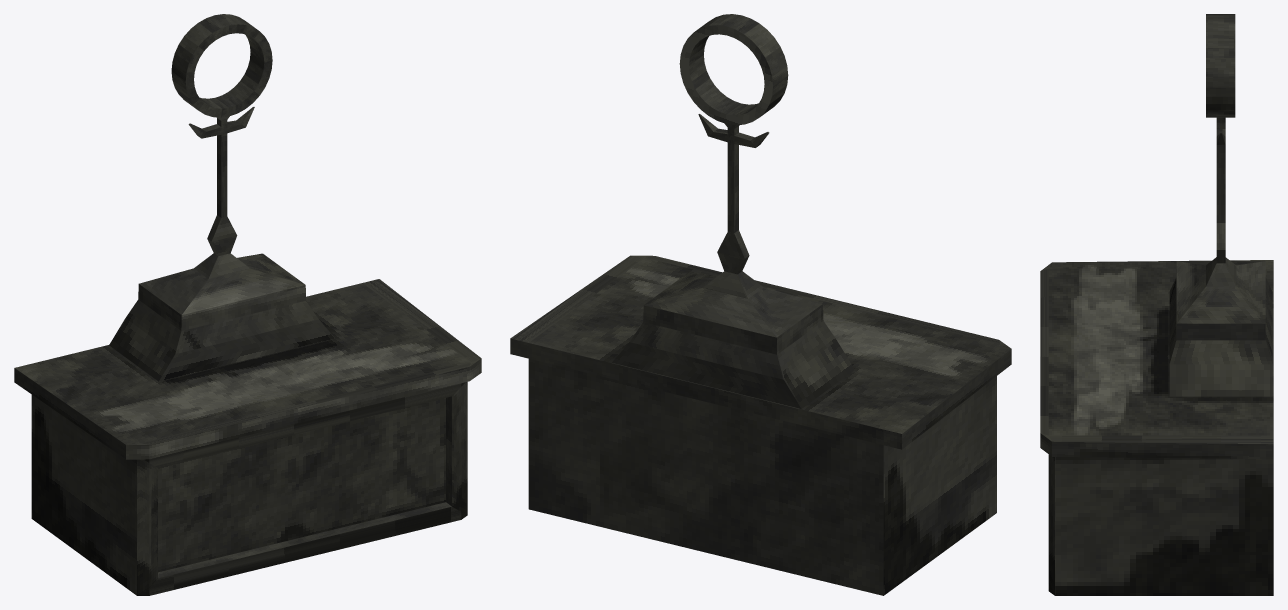
The model's file is church_altar.glb.
3 renders of one model, left to right at view 1: azimuth 30°, elevation 25°; view 2: azimuth 150°, elevation 25°; view 3: azimuth 270°, elevation 25°, orthographic. The views are drawn at different scales.
Parts seen in each view (by area): view 1: church_altar; view 2: church_altar; view 3: church_altar.
Part boxes in pixels (x1,y1,x2,y2): church_altar: [14, 14, 481, 595]; church_altar: [510, 14, 1011, 595]; church_altar: [1040, 14, 1273, 595].
Size of the model in its own units: 2.57 by 3.21 by 1.37.
1 material, 1 textured.
